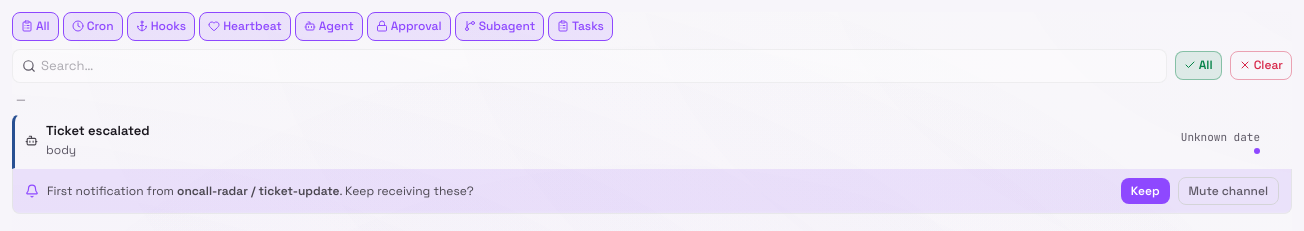
NotificationFeed Phase 3: keep/mute prompt › Keep dismisses the prompt and persists the decision
Click the button "Keep".
click(1145, 191)  # box x1=1121 y1=178 x2=1170 y2=204
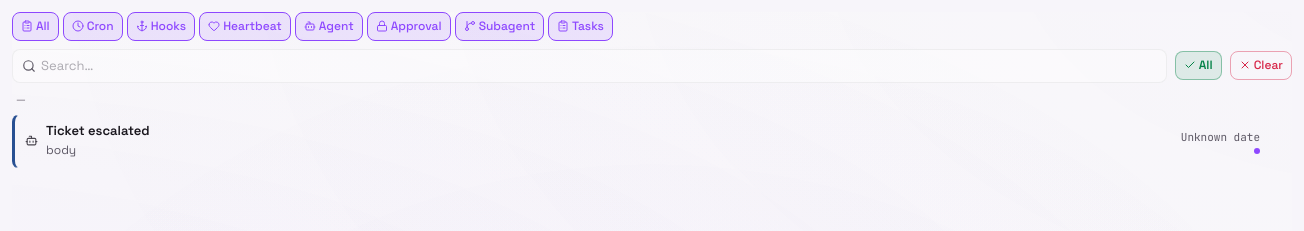
Expected: the text "Keep receiving these?" is gone
